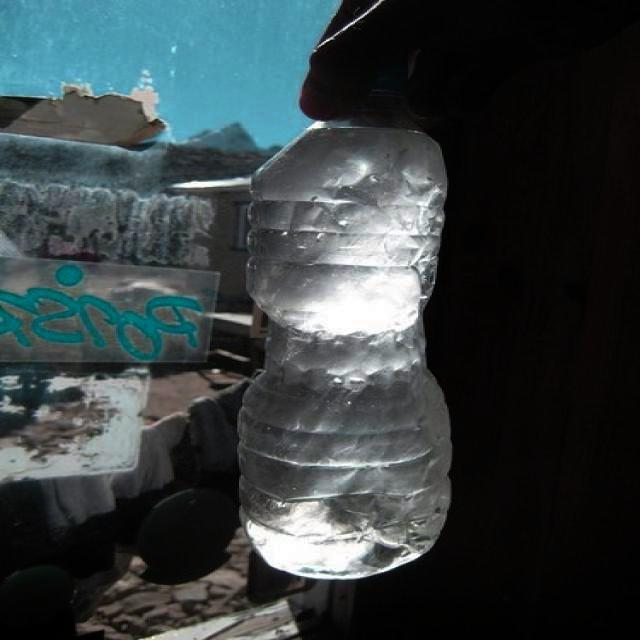bottle: (239, 70, 453, 578)
